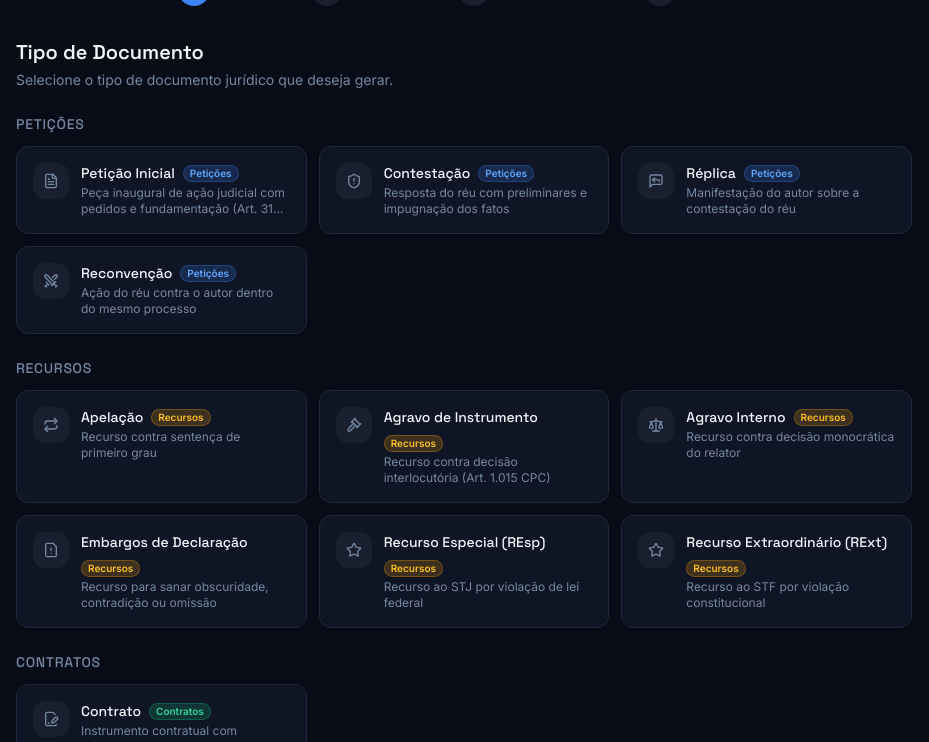
DocumentWizard › navigates to step 2 when clicking next after type selection
The image size is (929, 742).
Click the heading "Petição Inicial": [128, 173] box [81,163,175,183]
(page scrolled)
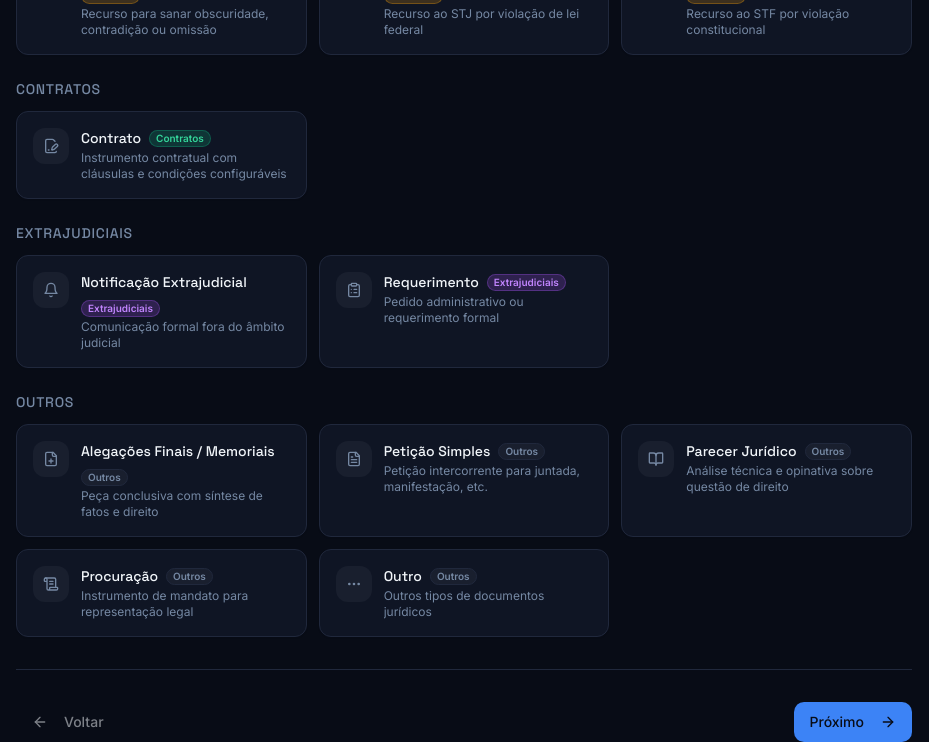
Click the button "Próximo": [853, 722] box [794,702,912,741]
(page scrolled)
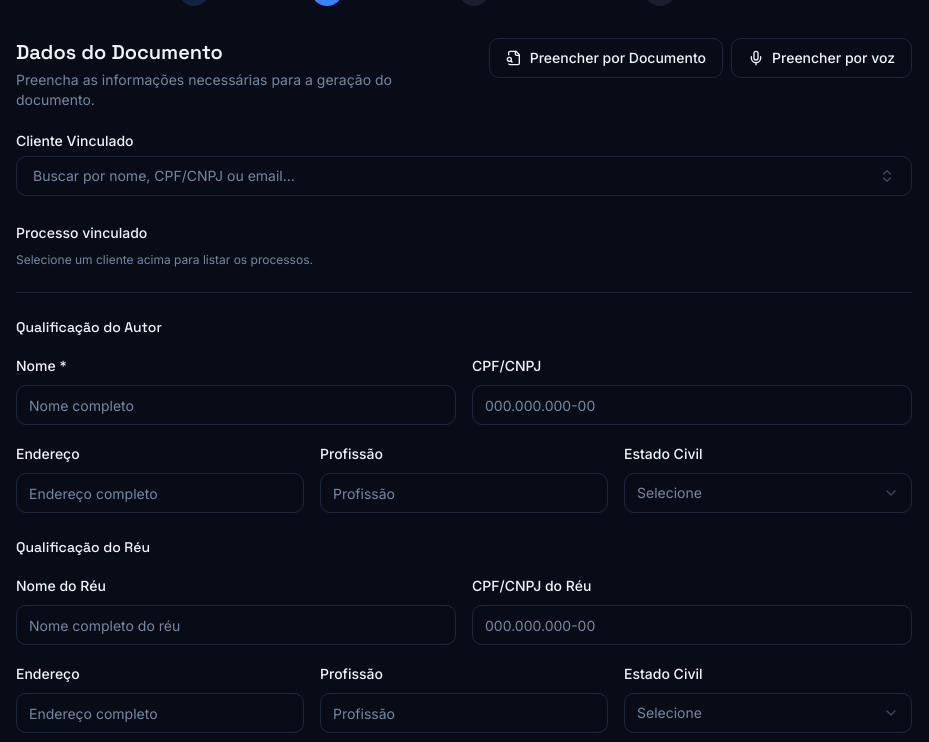
Check: the heading "Dados do Documento" is shown, box [16,39,223,65]
